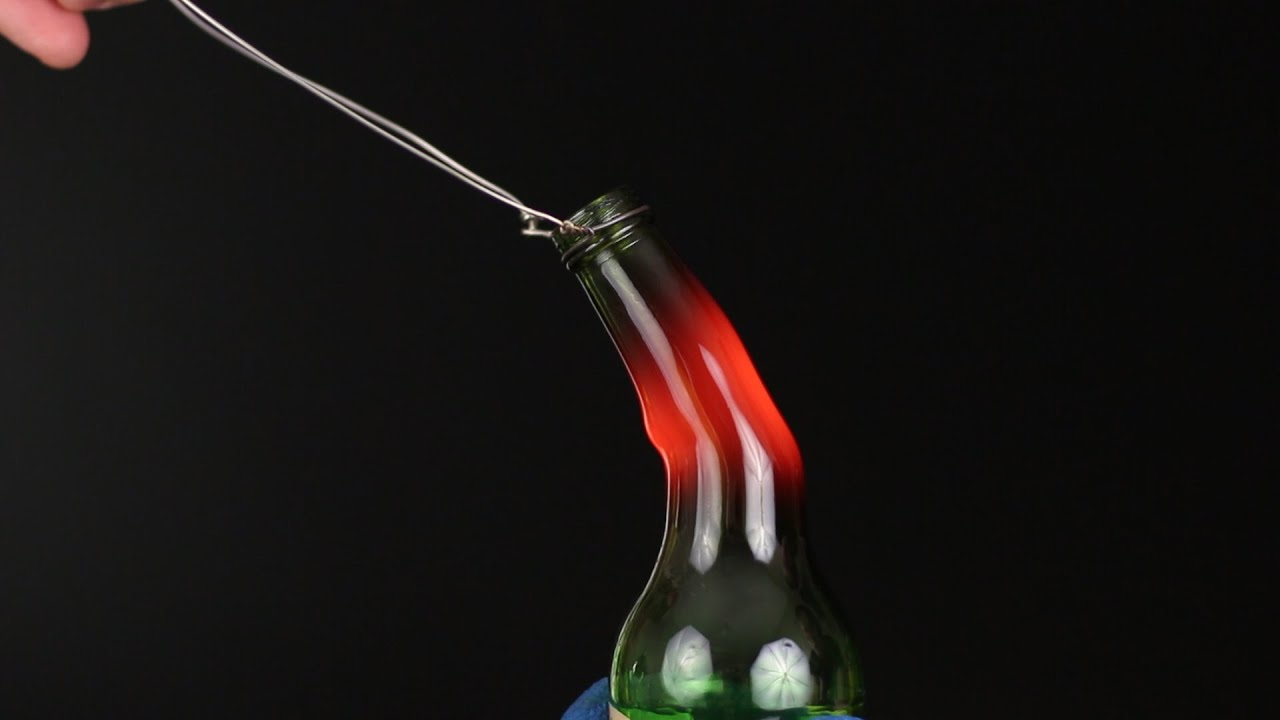glass_bottle: (531, 173, 884, 720)
